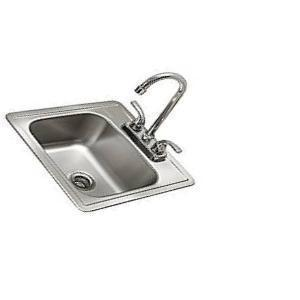Lavaplatos: (13, 51, 212, 208)
